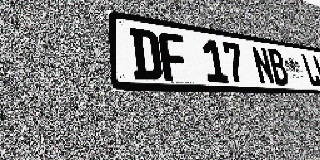1: (200, 38, 229, 83)
7: (221, 41, 248, 84)
B: (266, 48, 290, 86)
D: (129, 27, 163, 81)
F: (158, 32, 190, 82)
L: (300, 53, 320, 87)
N: (250, 46, 276, 85)
W: (312, 55, 320, 87)
